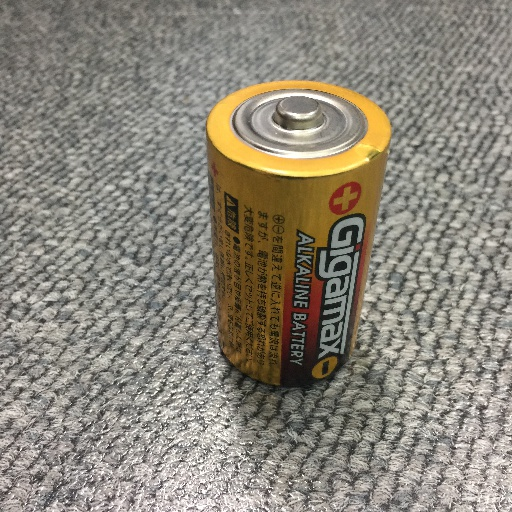Battery_0: (198, 66, 405, 395)
